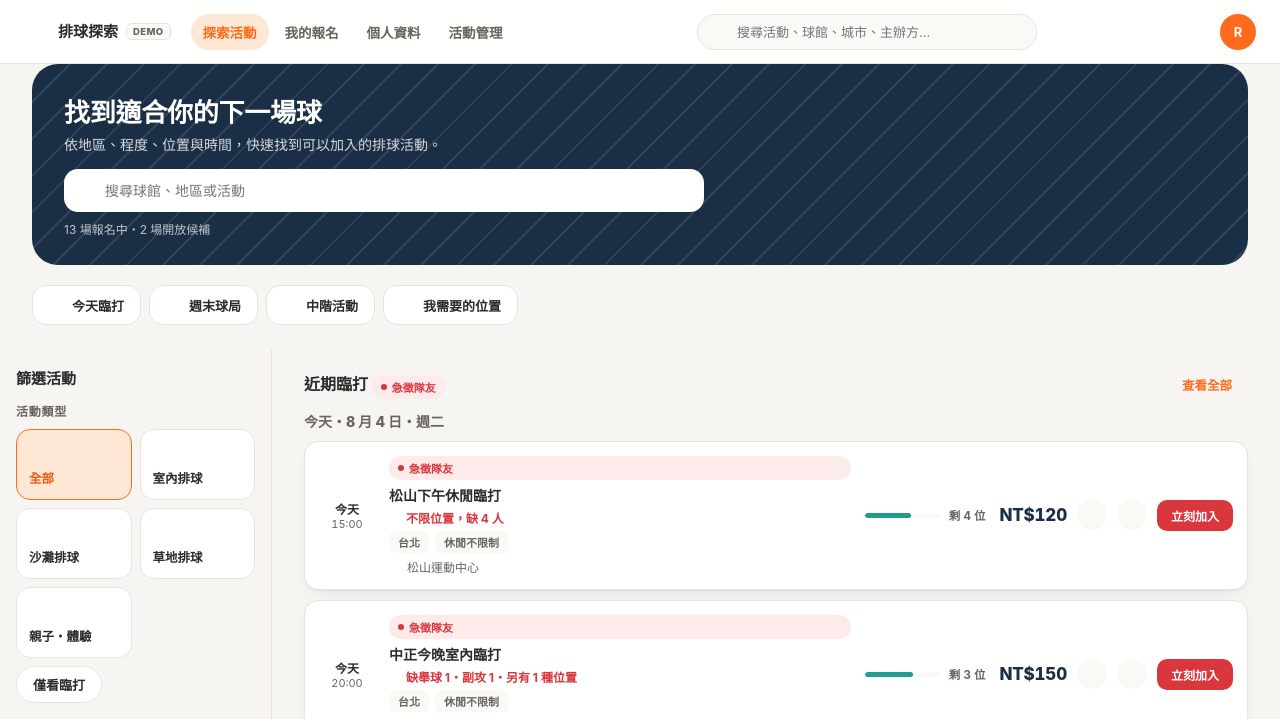
Test: Explore — urgentOnly / 今天臨打 quick entry › clicking 今天臨打 applies both dateRange=today and urgentOnly, shown as active-filter chips
This screenshot has width=1280, height=719.
Click the button "今天臨打": [86, 305] box [32,285,141,325]
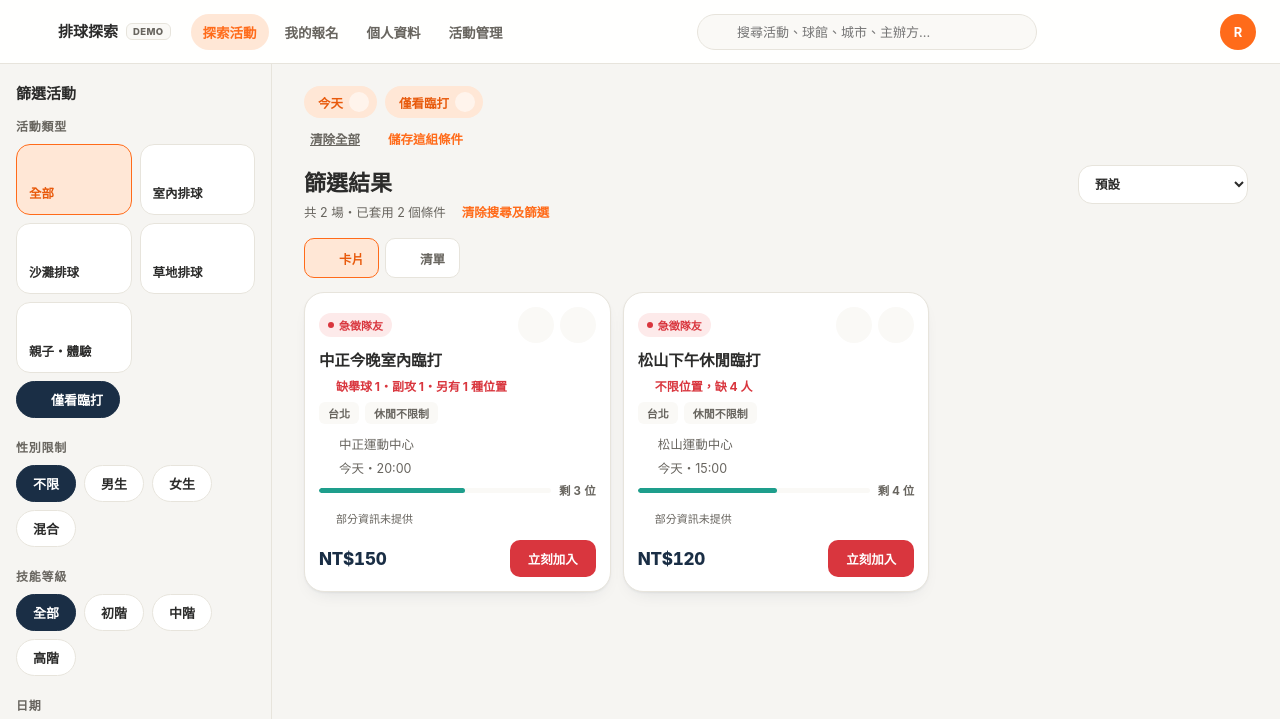
Check: the button with aria-label "移除今天篩選" is shown, box [304,86,377,118]
Check: the button with aria-label "移除僅看臨打篩選" is shown, box [385,86,483,118]
